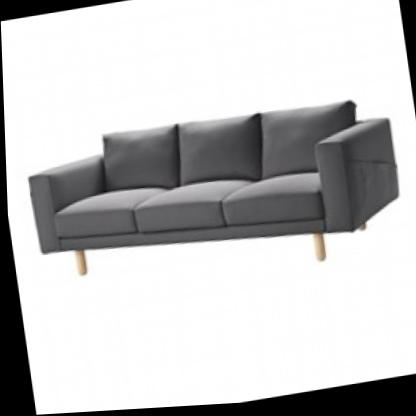Sofa: (14, 72, 416, 321)
